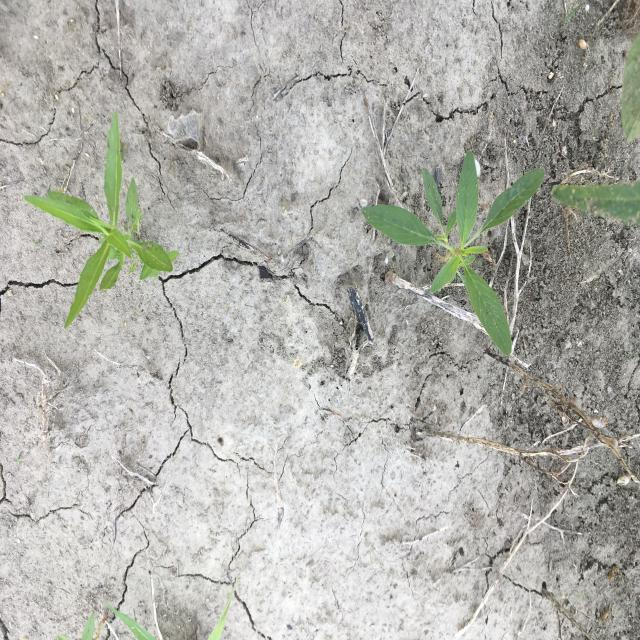Eclipta: (22, 109, 181, 330)
Waterhemp: (360, 148, 546, 358)
